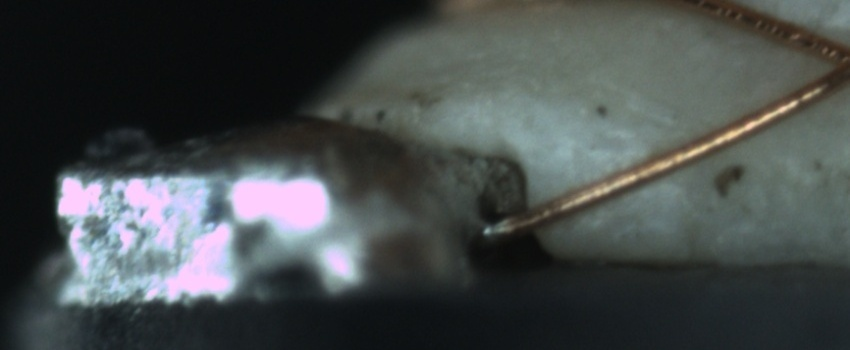CL: (800, 25, 849, 99)
